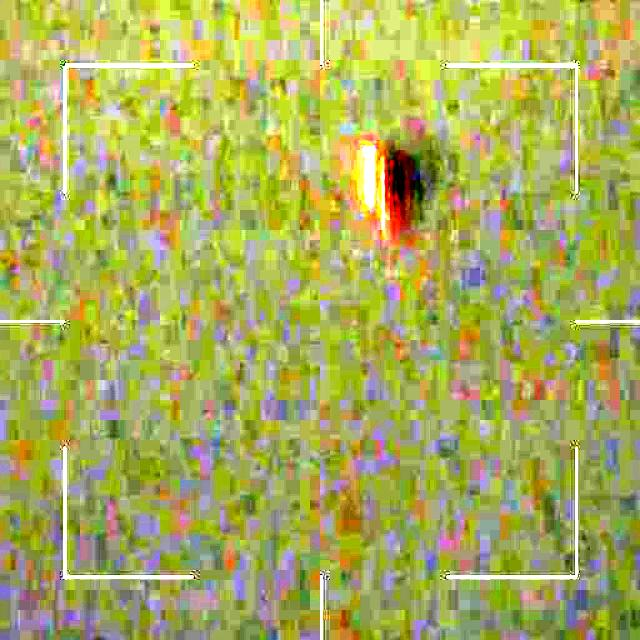bird: (354, 139, 446, 236)
